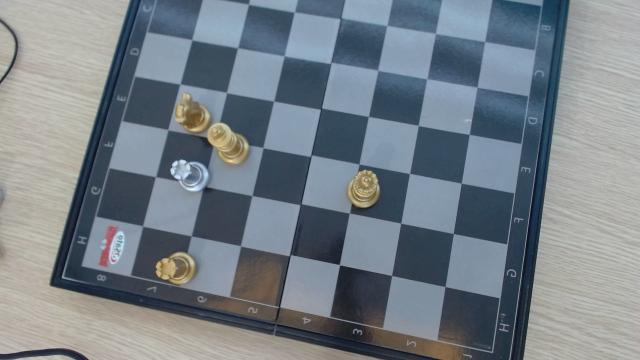black_king: (210, 123, 248, 165)
black_knight: (174, 93, 210, 130)
black_queen: (348, 170, 380, 209)
black_rook: (155, 252, 197, 286)
white_rook: (170, 159, 209, 193)
